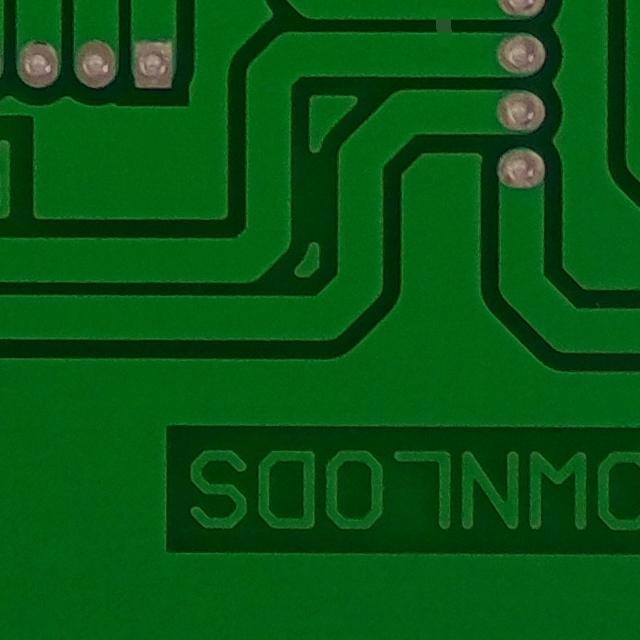short: (401, 0, 490, 75)
